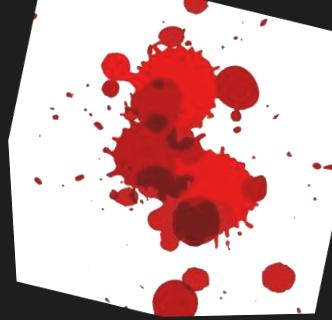Fire: (98, 26, 264, 253), (146, 267, 206, 317), (256, 263, 292, 295), (182, 0, 207, 16)
